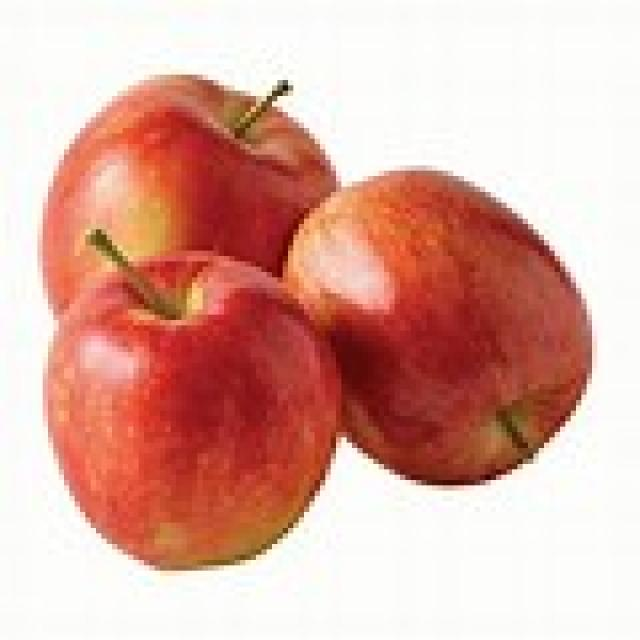apple: (44, 230, 342, 572), (349, 164, 596, 489)
